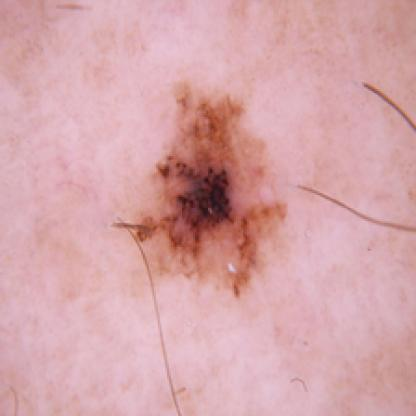Skin_Cancer-Malignant: (132, 78, 294, 306)
